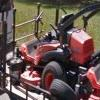Tractor: (13, 10, 100, 100)
